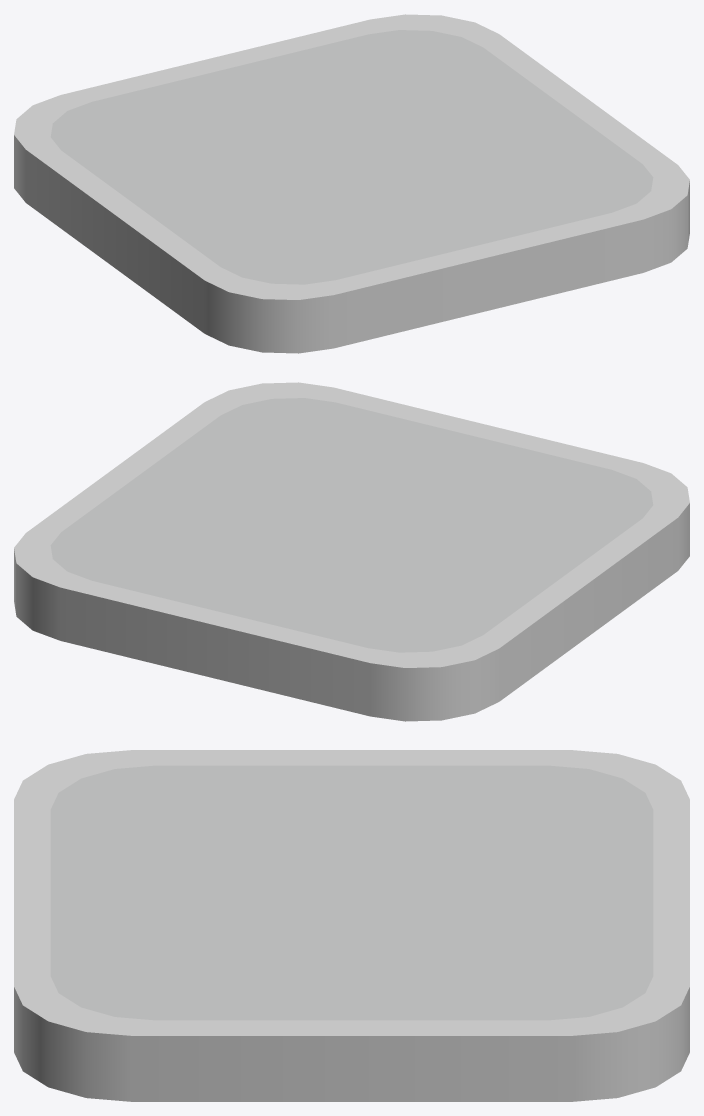
Rendered from UpgradePlate.fbx.
The picture shows the model from 3 angles, top to bottom: view 1: azimuth 30°, elevation 25°; view 2: azimuth 150°, elevation 25°; view 3: azimuth 270°, elevation 25°; orthographic projection. The views are drawn at different scales.
Parts seen in each view (by area): view 1: Cube.005; view 2: Cube.005; view 3: Cube.005.
Part boxes in pixels (box(x1,y1,x2,y2)): Cube.005: box(14, 14, 689, 353); Cube.005: box(14, 382, 689, 721); Cube.005: box(14, 750, 689, 1101).
Size of the model in its own units: 0.6012 by 0.0648 by 0.6012.
